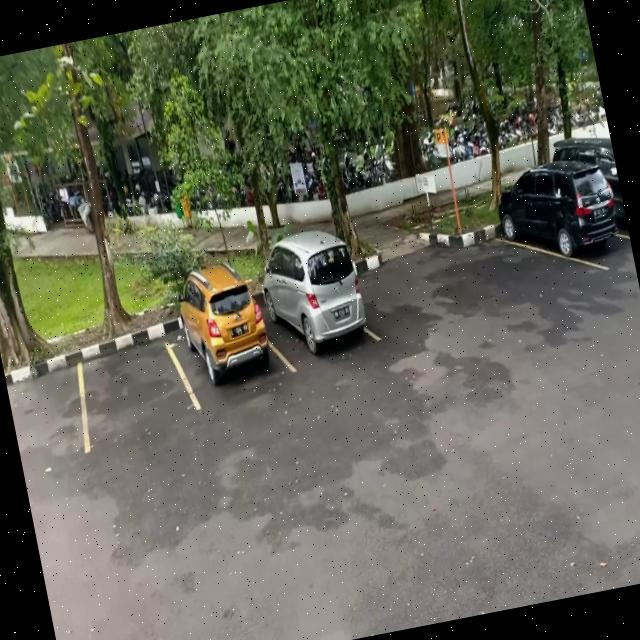empty: (64, 310, 197, 450)
occupied: (258, 239, 382, 374), (492, 162, 628, 284), (168, 276, 284, 416)
